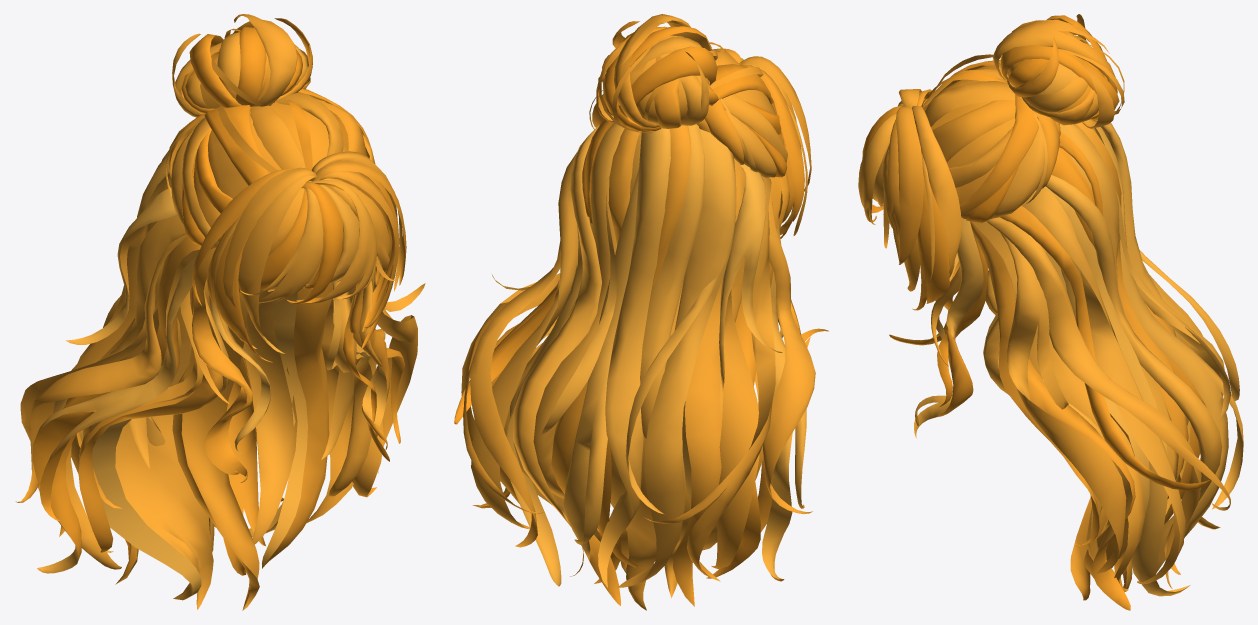
The model's file is hair3.fbx.
The picture shows the model from 3 angles, left to right: view 1: azimuth 30°, elevation 25°; view 2: azimuth 150°, elevation 25°; view 3: azimuth 270°, elevation 25°; orthographic projection. The views are drawn at different scales.
Visible parts, largest first — view 1: hair3; view 2: hair3; view 3: hair3.
Part boxes in pixels (x1,y1,x2,y2): hair3: (15,14,425,610); hair3: (454,14,828,610); hair3: (858,14,1243,610).
Bounding box in the file's own units: 36.71 × 55.35 × 33.1.
Materials: 1 (1 with a texture image).
